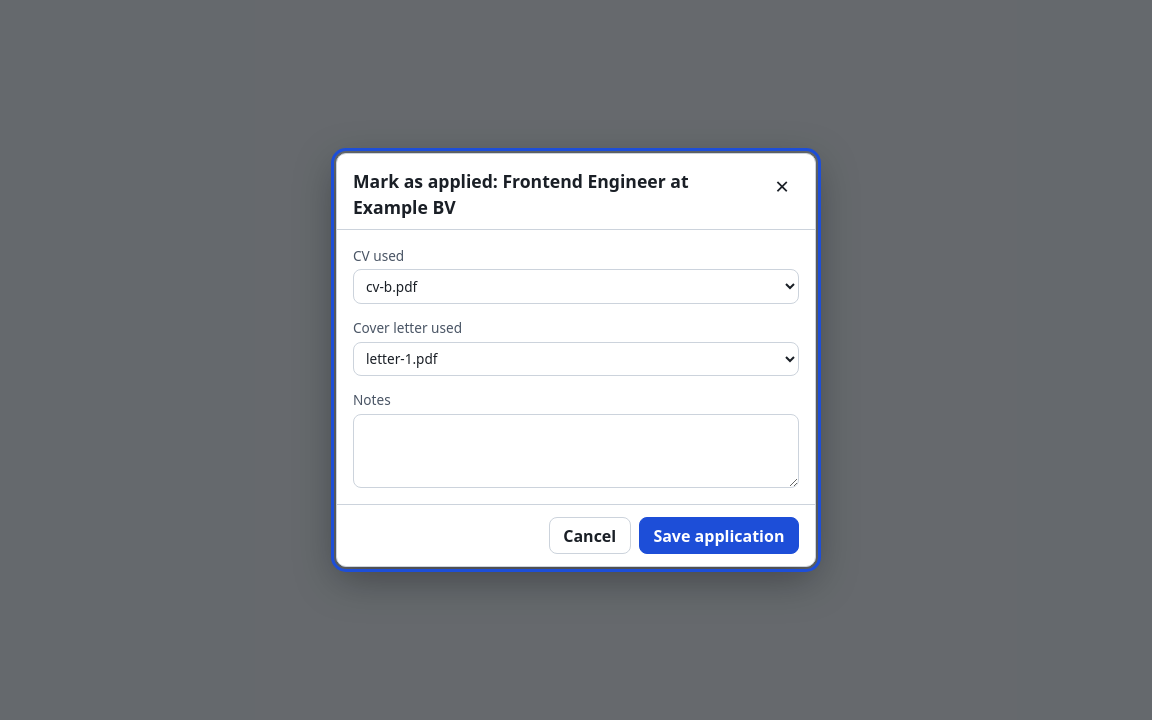
ApplyDialog › shows the error of the api and keeps the dialog open
This screenshot has width=1152, height=720.
Click the button "Save application": click(719, 536) [639,517,799,554]
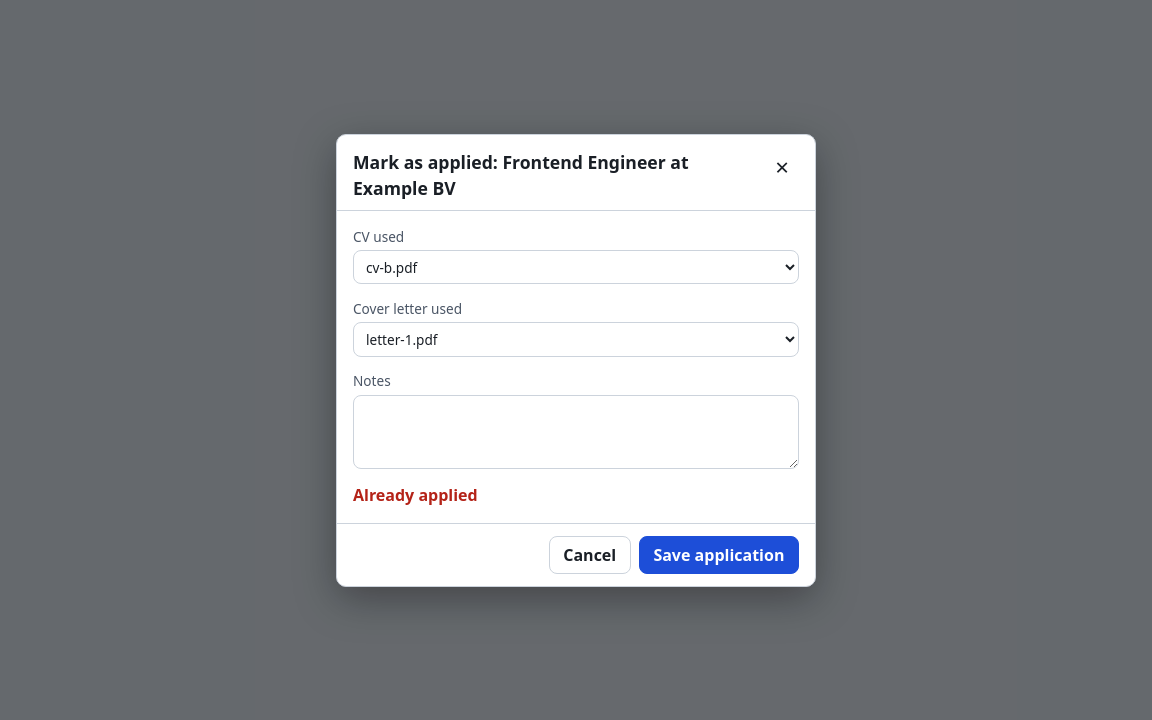
Check: the button "Save application" is enabled, box [639,536,799,574]
Check: the message reads "Already applied", box [353,484,478,506]
